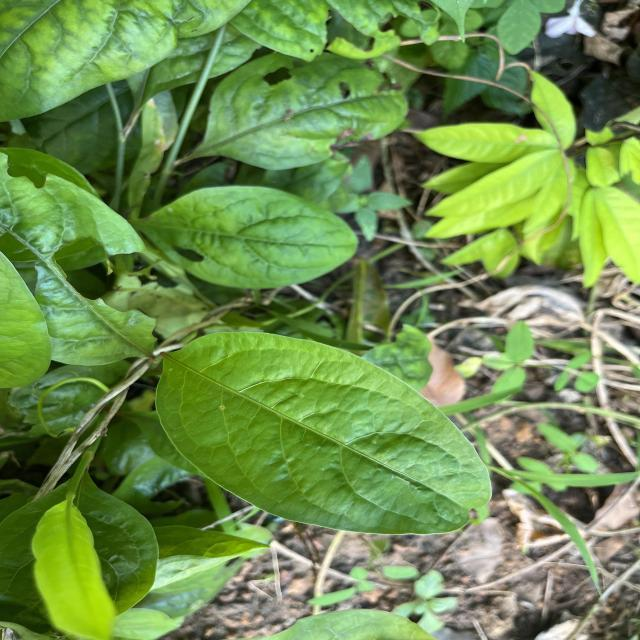Plumbago indica: (150, 327, 498, 541), (138, 181, 364, 293)
